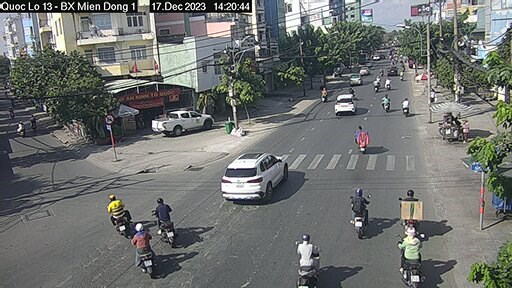car: (218, 153, 288, 203), (148, 110, 219, 138), (335, 92, 359, 115)
motorbike: (290, 233, 329, 288), (389, 231, 427, 285), (151, 191, 178, 245), (101, 191, 131, 238), (133, 225, 158, 275), (347, 190, 370, 238), (351, 123, 372, 153), (380, 90, 392, 114), (400, 98, 413, 118), (319, 87, 332, 105)
